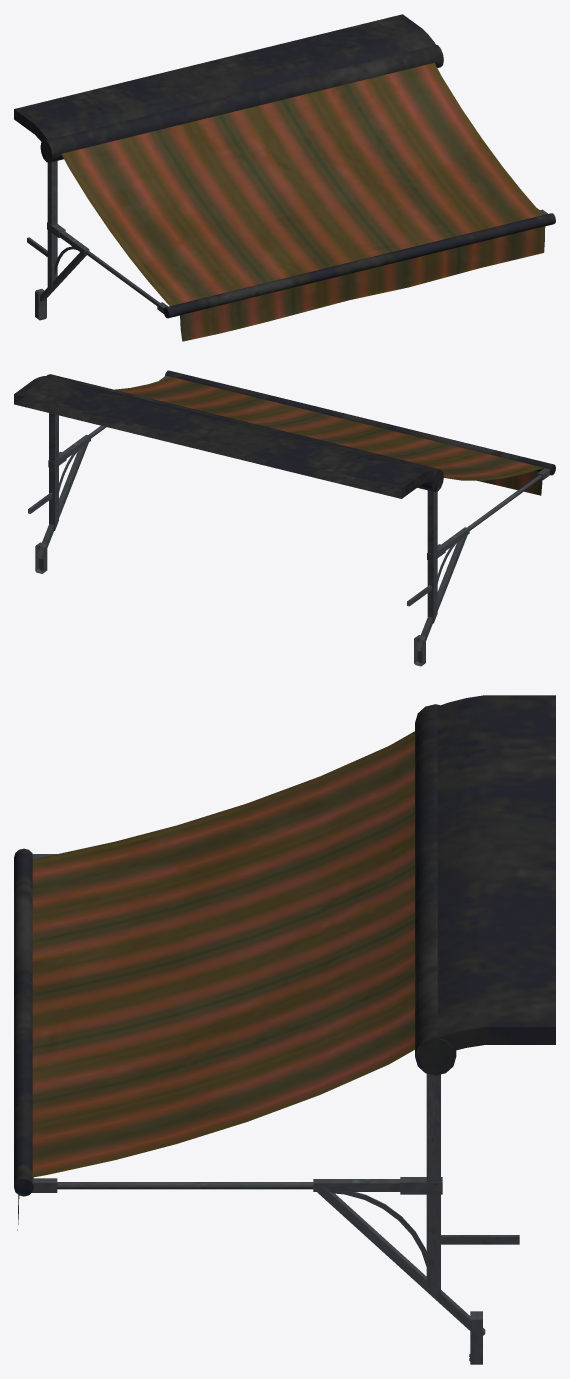
The model's file is sm0039_arcadecaferoof01_01.fbx.
The picture shows the model from 3 angles, top to bottom: view 1: azimuth 30°, elevation 25°; view 2: azimuth 150°, elevation 25°; view 3: azimuth 270°, elevation 25°; orthographic projection. The views are drawn at different scales.
Visible parts, largest first — view 1: LOD_1_Group_0_Sub_1__sm0039_arcadecaferoof01_01_Mat, LOD_1_Group_0_Sub_2__sm0039_arcadecaferoof_C_Mat; view 2: LOD_1_Group_0_Sub_1__sm0039_arcadecaferoof01_01_Mat, LOD_1_Group_0_Sub_2__sm0039_arcadecaferoof_C_Mat; view 3: LOD_1_Group_0_Sub_1__sm0039_arcadecaferoof01_01_Mat, LOD_1_Group_0_Sub_2__sm0039_arcadecaferoof_C_Mat.
Boxes of the visible parts, x1=… form: LOD_1_Group_0_Sub_1__sm0039_arcadecaferoof01_01_Mat: x1=14, y1=14, x2=555, y2=341; LOD_1_Group_0_Sub_2__sm0039_arcadecaferoof_C_Mat: x1=27, y1=161, x2=547, y2=320; LOD_1_Group_0_Sub_1__sm0039_arcadecaferoof01_01_Mat: x1=14, y1=370, x2=555, y2=498; LOD_1_Group_0_Sub_2__sm0039_arcadecaferoof_C_Mat: x1=28, y1=376, x2=550, y2=666; LOD_1_Group_0_Sub_1__sm0039_arcadecaferoof01_01_Mat: x1=14, y1=695, x2=555, y2=1230; LOD_1_Group_0_Sub_2__sm0039_arcadecaferoof_C_Mat: x1=32, y1=854, x2=519, y2=1364.
Size of the model in its own units: 409 by 193 by 280.
